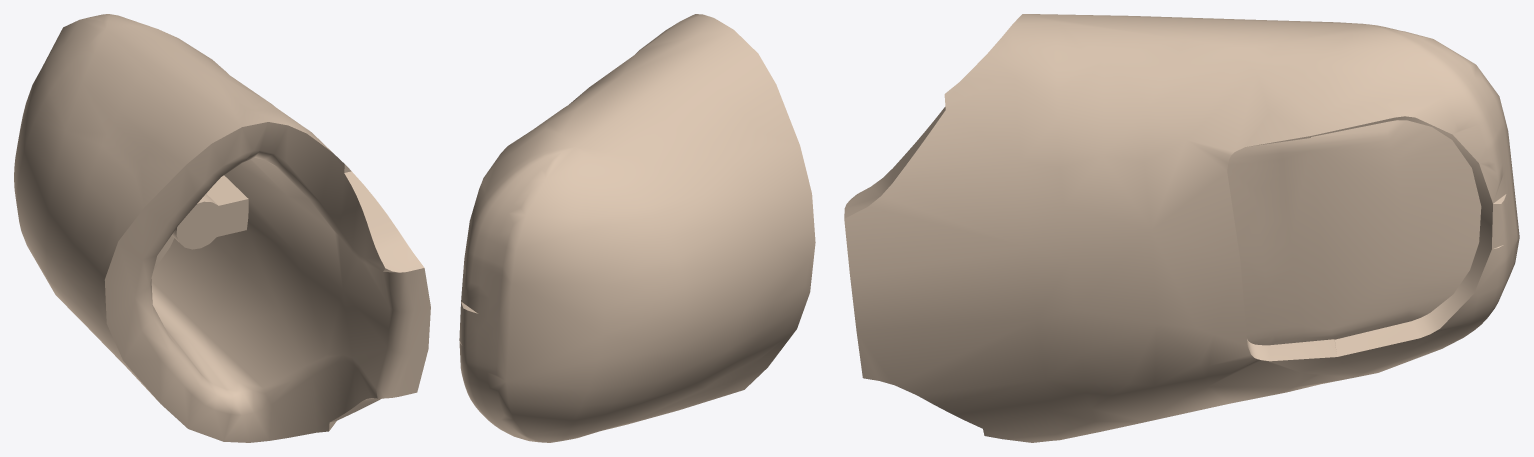
Rendered from l_hand_D_R_1.obj.
The picture shows the model from 3 angles, left to right: view 1: azimuth 30°, elevation 25°; view 2: azimuth 150°, elevation 25°; view 3: azimuth 270°, elevation 25°; orthographic projection. The views are drawn at different scales.
Bounding box in the file's own units: 14.61 × 20.49 × 30.59.
